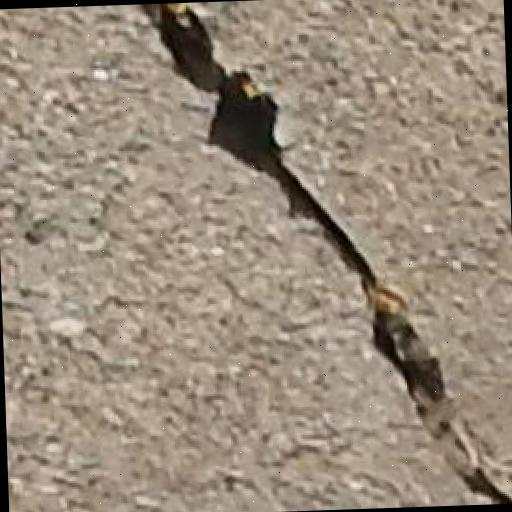spalling: (115, 3, 512, 497)
